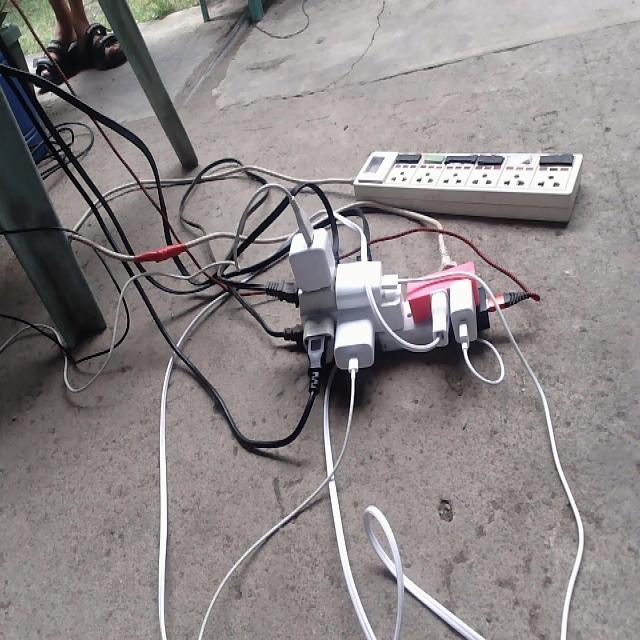-: (283, 211, 506, 389)
